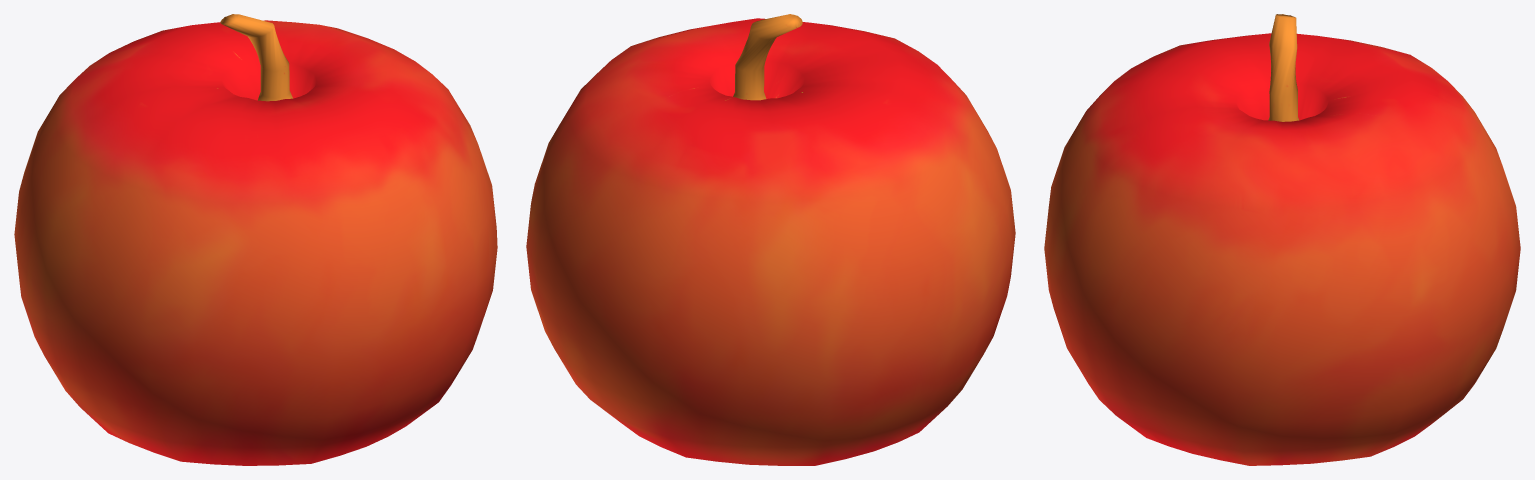
File: apple.fbx
3 renders of one model, left to right at view 1: azimuth 30°, elevation 25°; view 2: azimuth 150°, elevation 25°; view 3: azimuth 270°, elevation 25°, orthographic. The views are drawn at different scales.
Parts seen in each view (by area): view 1: Sphere; view 2: Sphere; view 3: Sphere.
Boxes of the visible parts, box(x1,y1,x2,y2) form: Sphere: box(14, 14, 497, 465); Sphere: box(526, 14, 1015, 465); Sphere: box(1044, 14, 1520, 465).
Size of the model in its own units: 37.97 by 34.2 by 37.98.
1 material, 1 textured.
